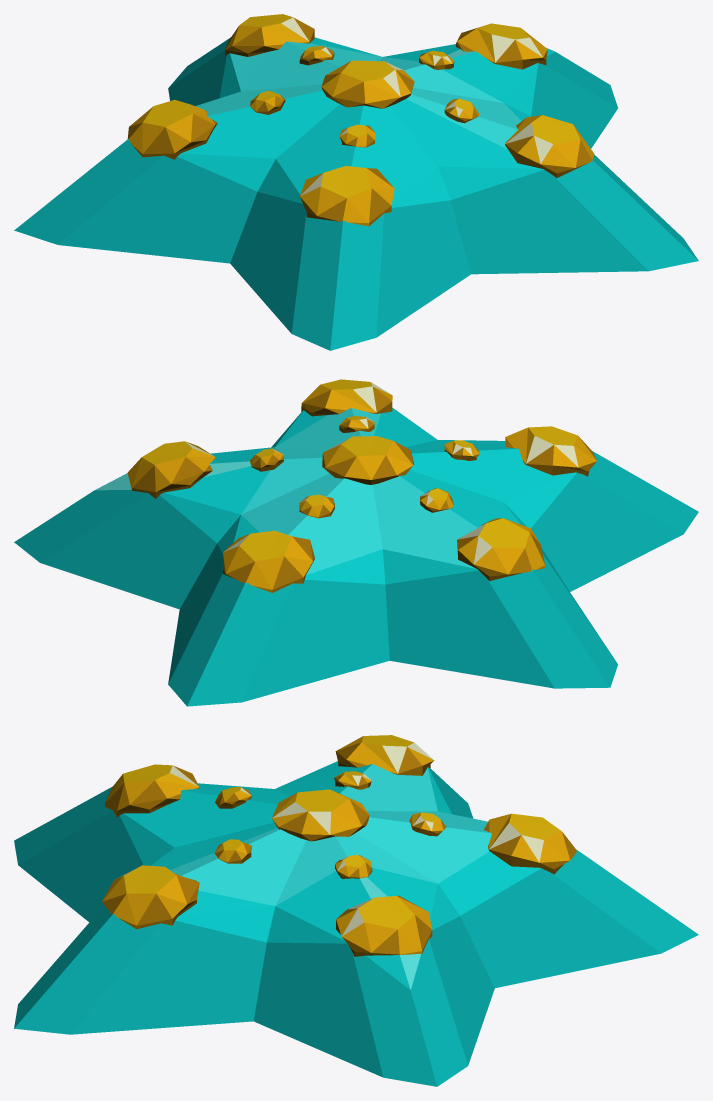
The model's file is starfish_light_blue.fbx.
3 views of the same model, one above another, from view 1: azimuth 30°, elevation 25°; view 2: azimuth 150°, elevation 25°; view 3: azimuth 270°, elevation 25° (orthographic). The views are drawn at different scales.
Visible parts, largest first — view 1: starfish_light_blue; view 2: starfish_light_blue; view 3: starfish_light_blue.
Boxes of the visible parts, x1,y1,x2,y2 form: starfish_light_blue: (14, 14, 698, 350); starfish_light_blue: (14, 379, 698, 706); starfish_light_blue: (14, 735, 698, 1086).
Size of the model in its own units: 0.7089 by 0.1461 by 0.6742.
